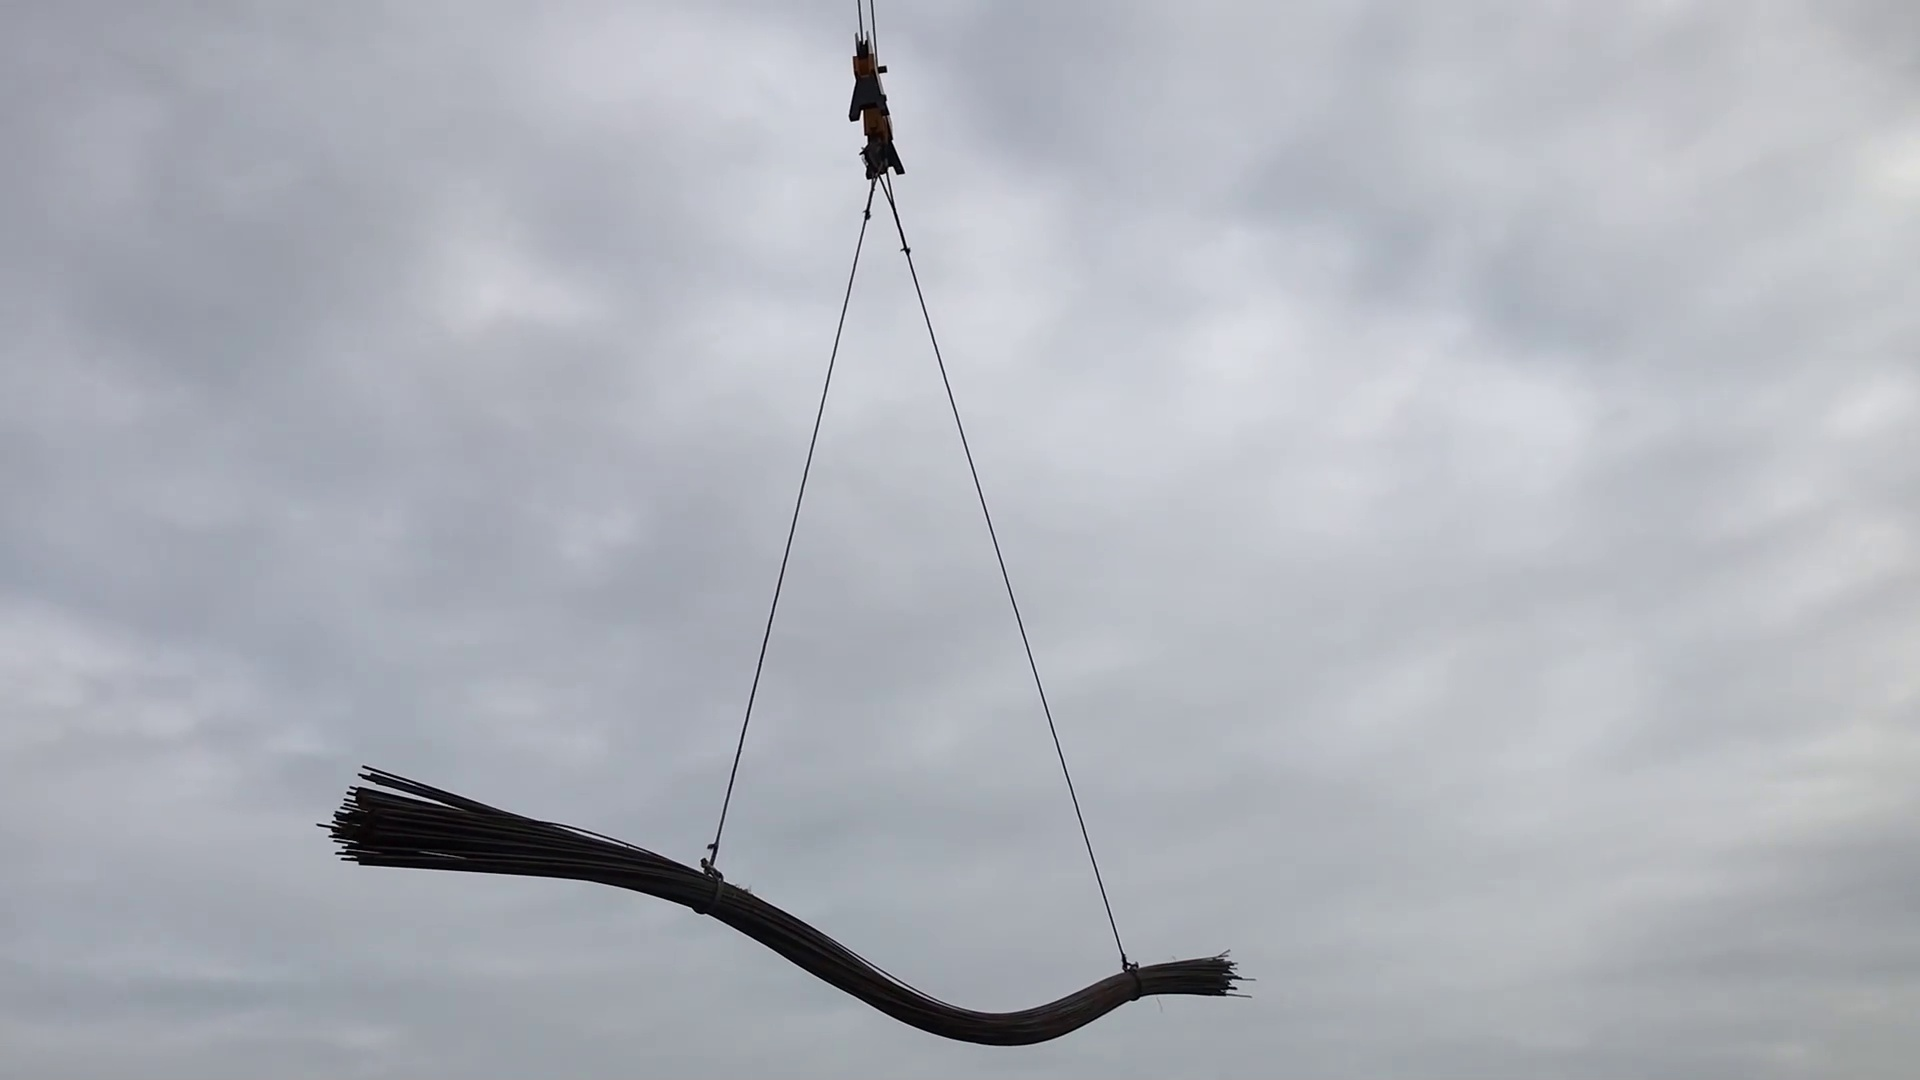hook: (848, 40, 901, 186)
rebar: (200, 717, 1619, 1080)
